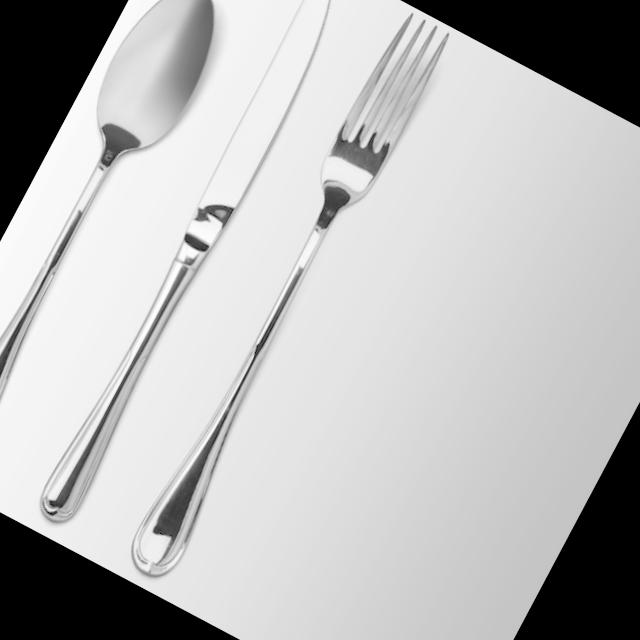fork: (108, 2, 464, 590)
